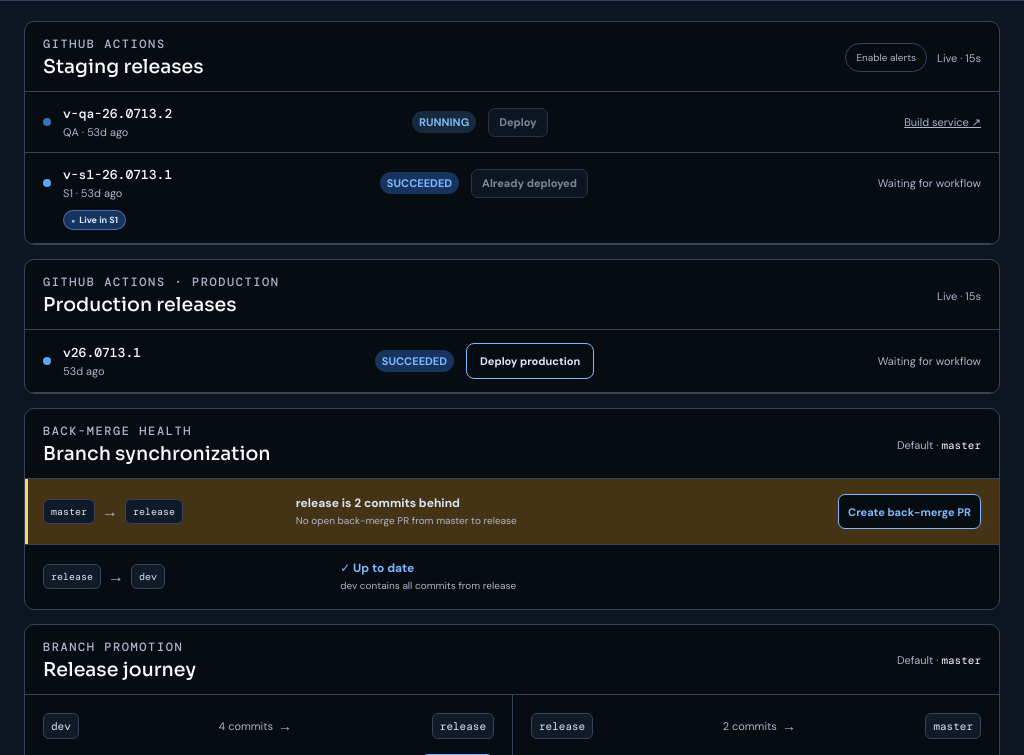
Test: ServiceOperations › opens production deployment when the branches are identical
Click the button "Deploy production". click: (530, 361)
box: [466, 343, 594, 379]
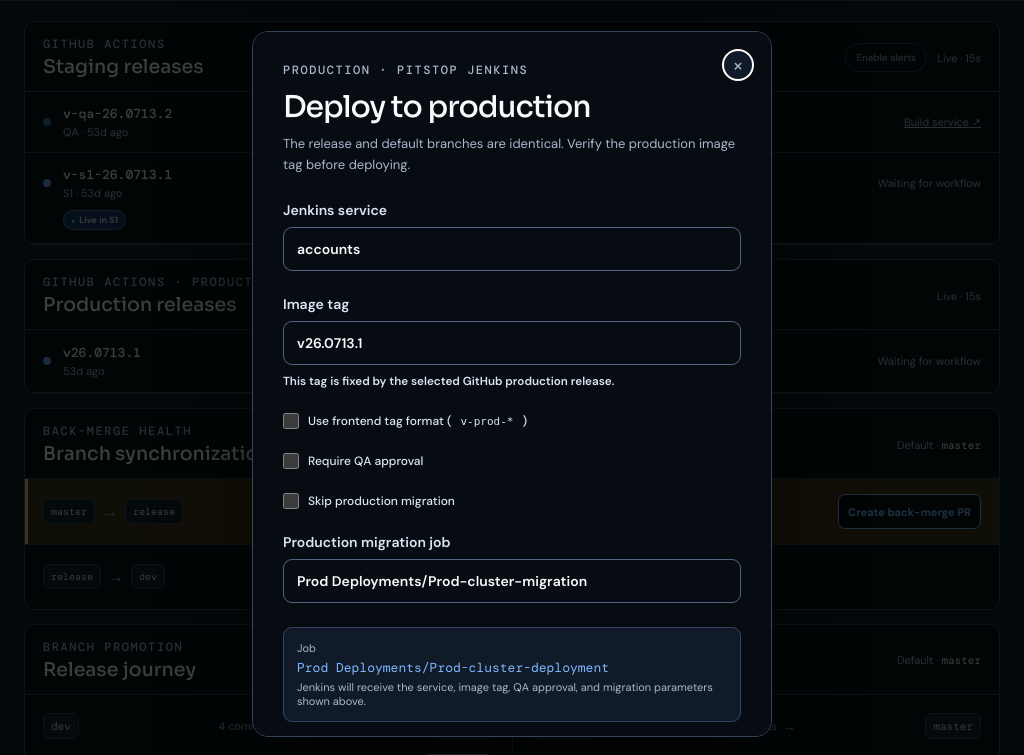
Expected: the dialog "Deploy to production" is shown, [252, 31, 772, 737]
